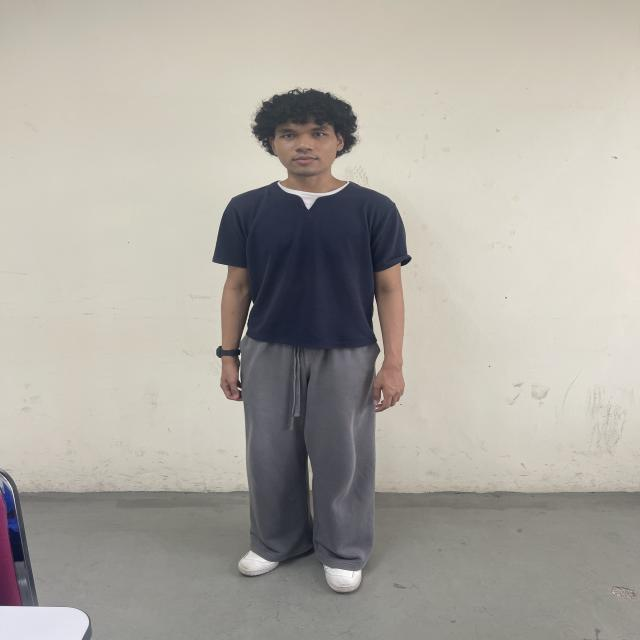person_without_labcoat: (213, 90, 411, 593)
